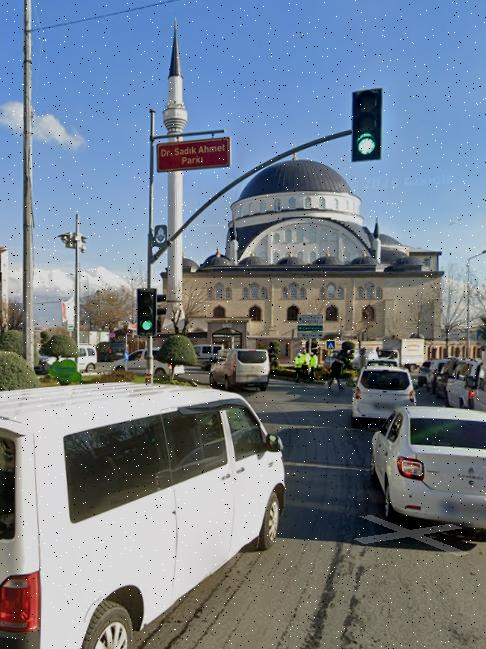greenlight: (354, 90, 379, 160), (137, 286, 156, 330)
